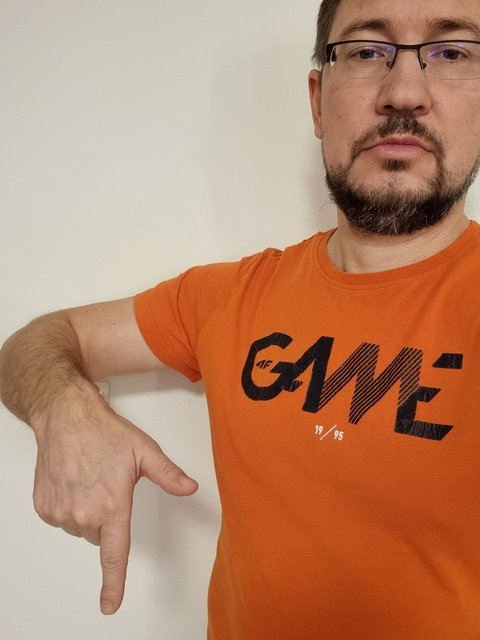GestDown: (35, 437, 197, 616)
